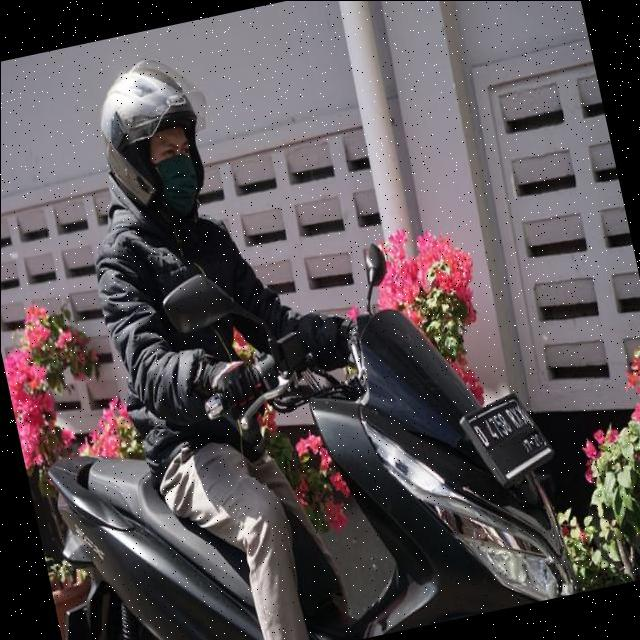Helm: (78, 42, 232, 234)
